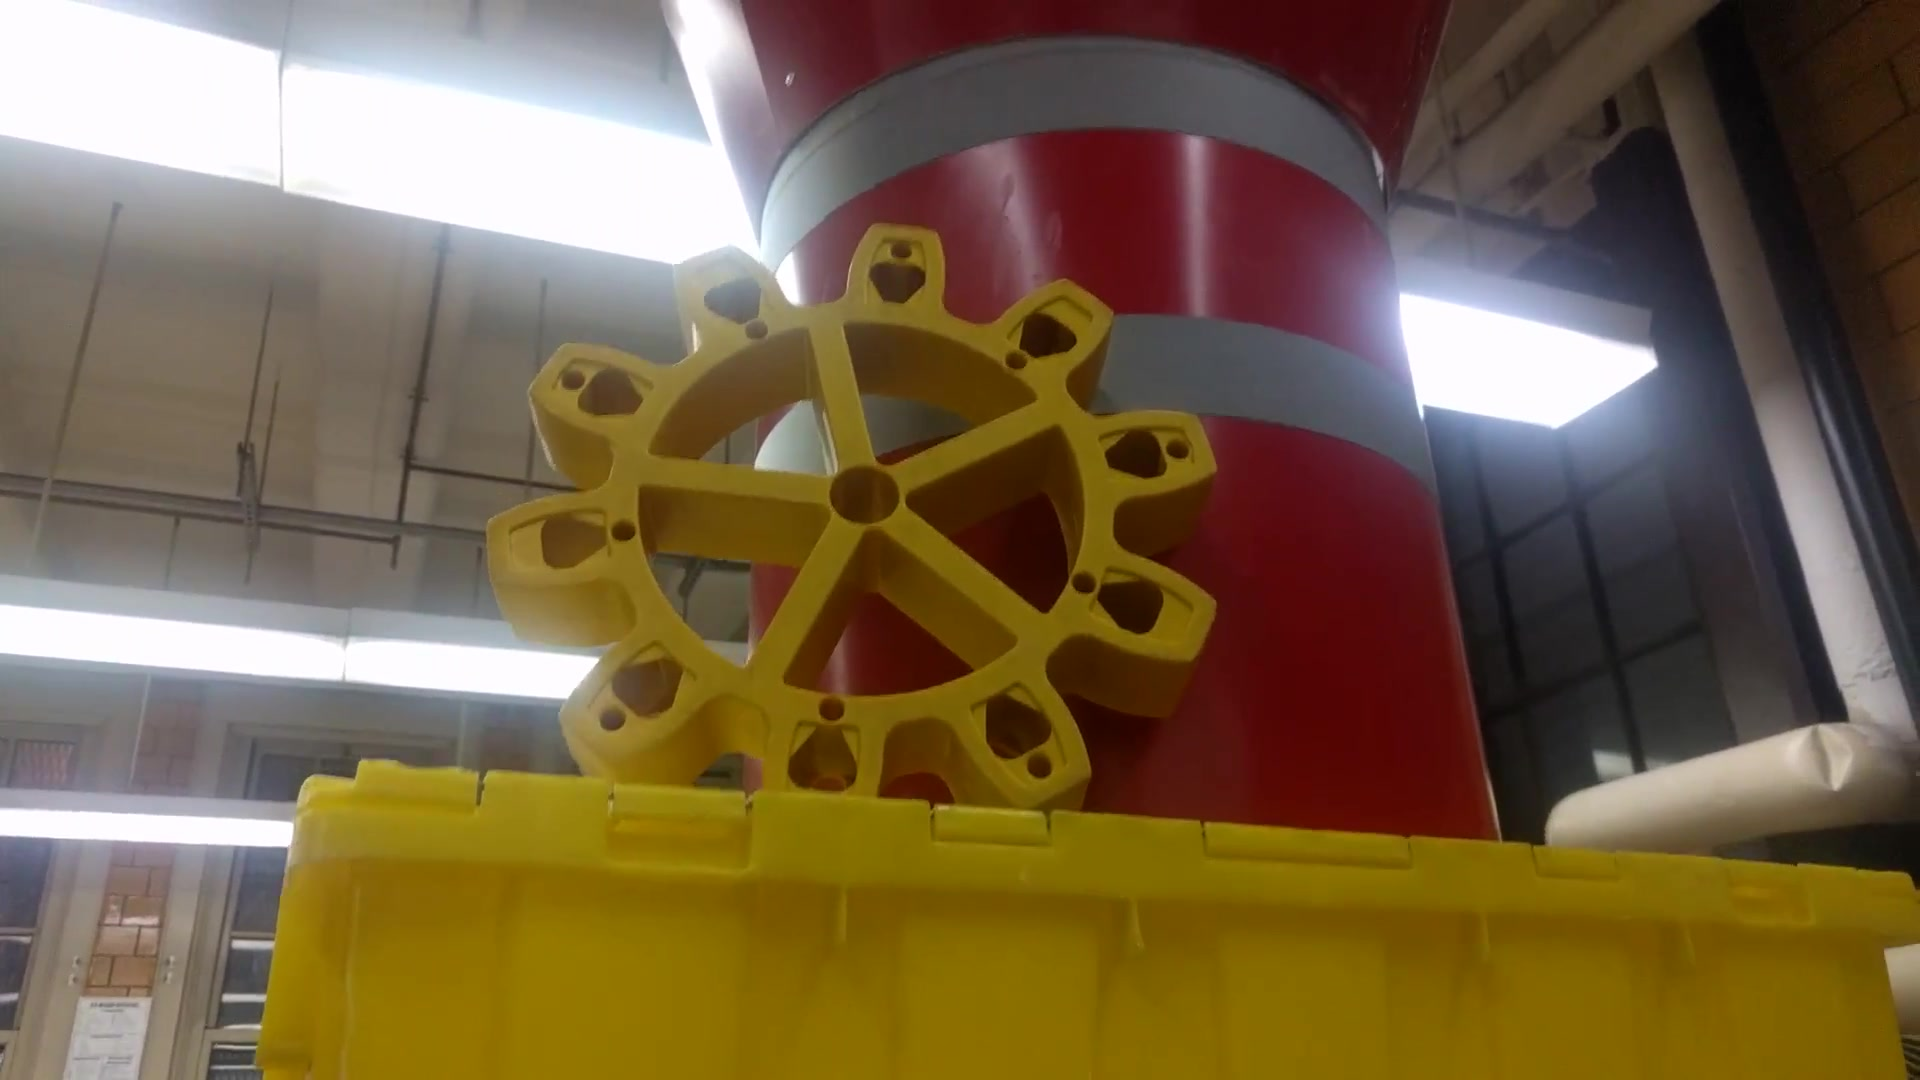gear: (495, 224, 1222, 816)
